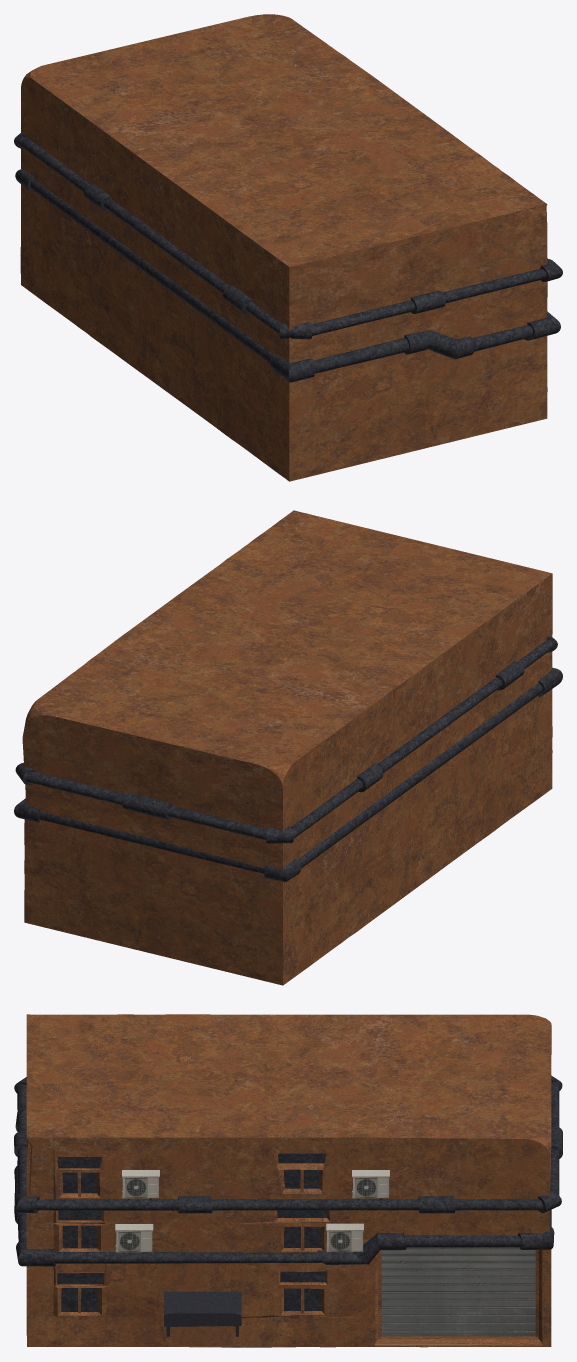
File: bld_apartment.glb
The picture shows the model from 3 angles, top to bottom: view 1: azimuth 30°, elevation 25°; view 2: azimuth 150°, elevation 25°; view 3: azimuth 270°, elevation 25°; orthographic projection. The views are drawn at different scales.
Visible parts, largest first — view 1: Apartment, pipe2, pipe1; view 2: Apartment, pipe1, pipe2; view 3: Apartment, pipe1, pipe2, roof, air conditioner1, air conditioner4, air conditioner2, air conditioner3.
Part boxes in pixels (x1,y1,x2,y2): Apartment: (20, 14, 547, 481); pipe2: (15, 169, 560, 382); pipe1: (14, 132, 562, 339); Apartment: (22, 510, 552, 985); pipe1: (15, 636, 557, 843); pipe2: (14, 667, 562, 882); Apartment: (26, 1014, 551, 1347); pipe1: (14, 1075, 562, 1213); pipe2: (14, 1112, 554, 1266); roof: (164, 1291, 241, 1326); air conditioner1: (326, 1223, 363, 1252); air conditioner4: (115, 1224, 153, 1252); air conditioner2: (352, 1170, 389, 1198); air conditioner3: (122, 1170, 159, 1198).
Size of what is drawn, in the model's own units: 36.52 by 23.84 by 56.54.
5 materials, 5 textured.
